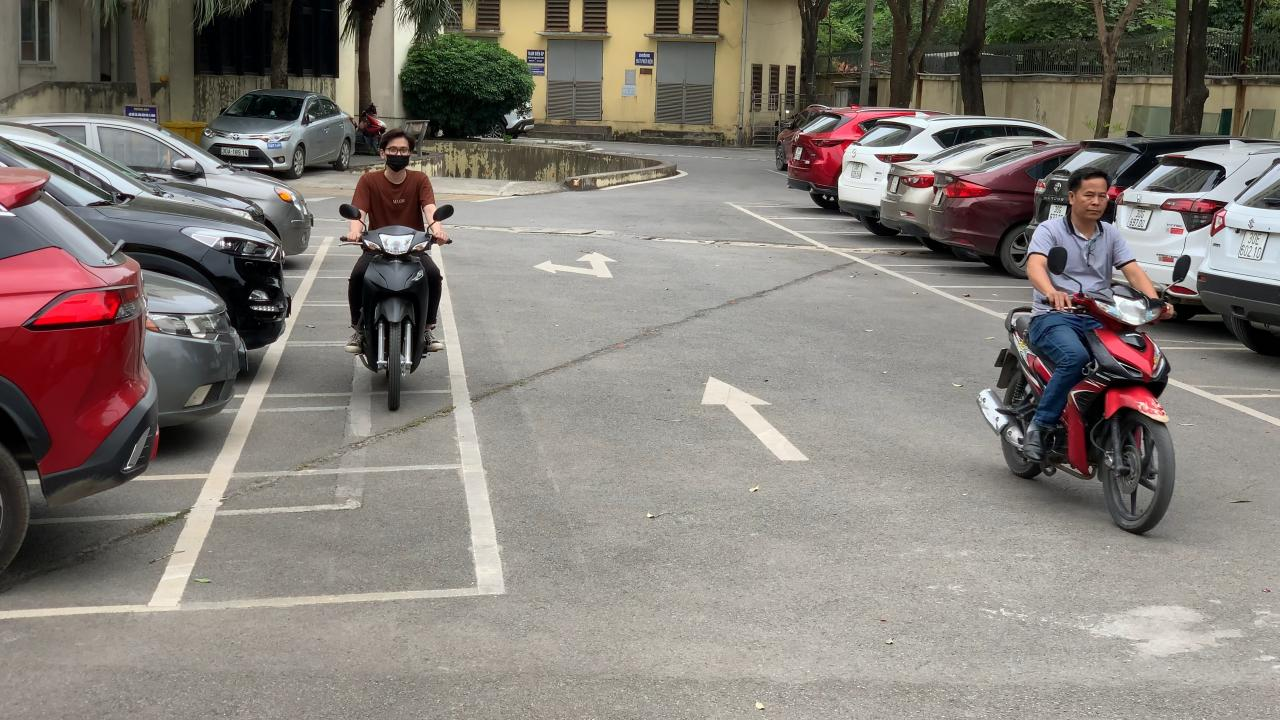motorcyclist: (976, 148, 1194, 535), (338, 128, 458, 412)
